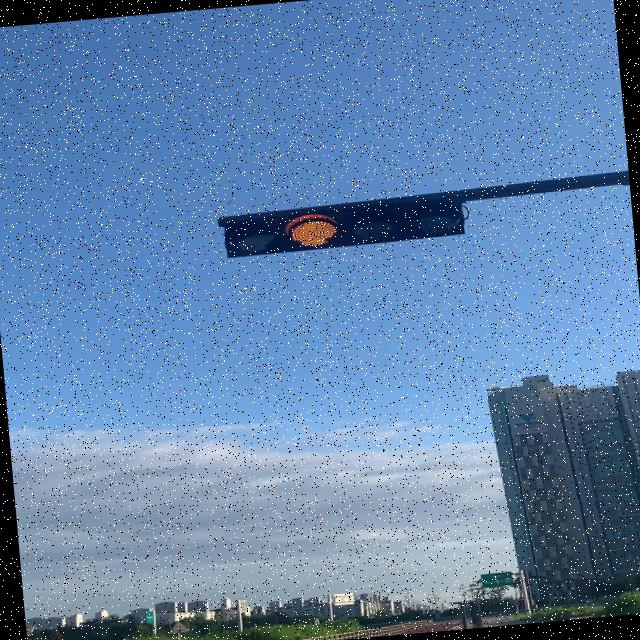yellow_light: (222, 197, 465, 258)
